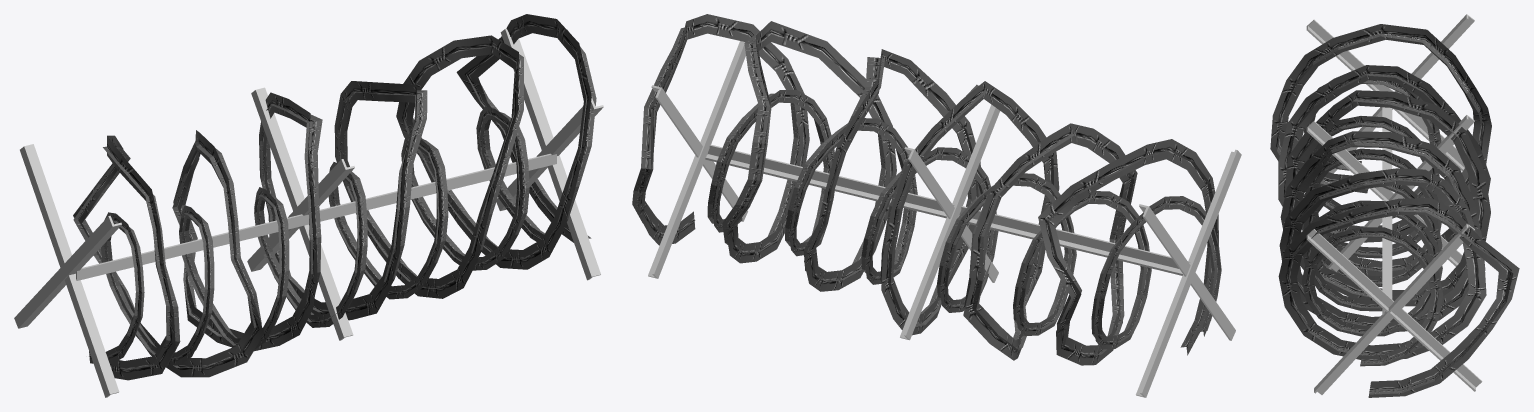
Rendered from SM_Props_BarbWire_01.FBX.
3 views of the same model, side by side, from view 1: azimuth 30°, elevation 25°; view 2: azimuth 150°, elevation 25°; view 3: azimuth 270°, elevation 25° (orthographic). The views are drawn at different scales.
Visible parts, largest first — view 1: SM_Props_BarbWire_01; view 2: SM_Props_BarbWire_01; view 3: SM_Props_BarbWire_01.
Part boxes in pixels (x1,y1,x2,y2): SM_Props_BarbWire_01: (14,14,603,397); SM_Props_BarbWire_01: (632,14,1241,397); SM_Props_BarbWire_01: (1270,14,1519,397).
Bounding box in the file's own units: 2.19 × 1.01 × 1.03.
